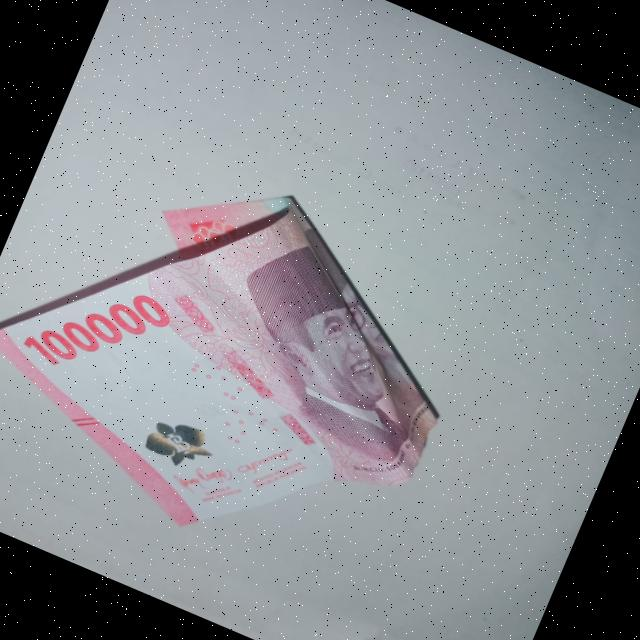100K: (0, 110, 511, 620)
